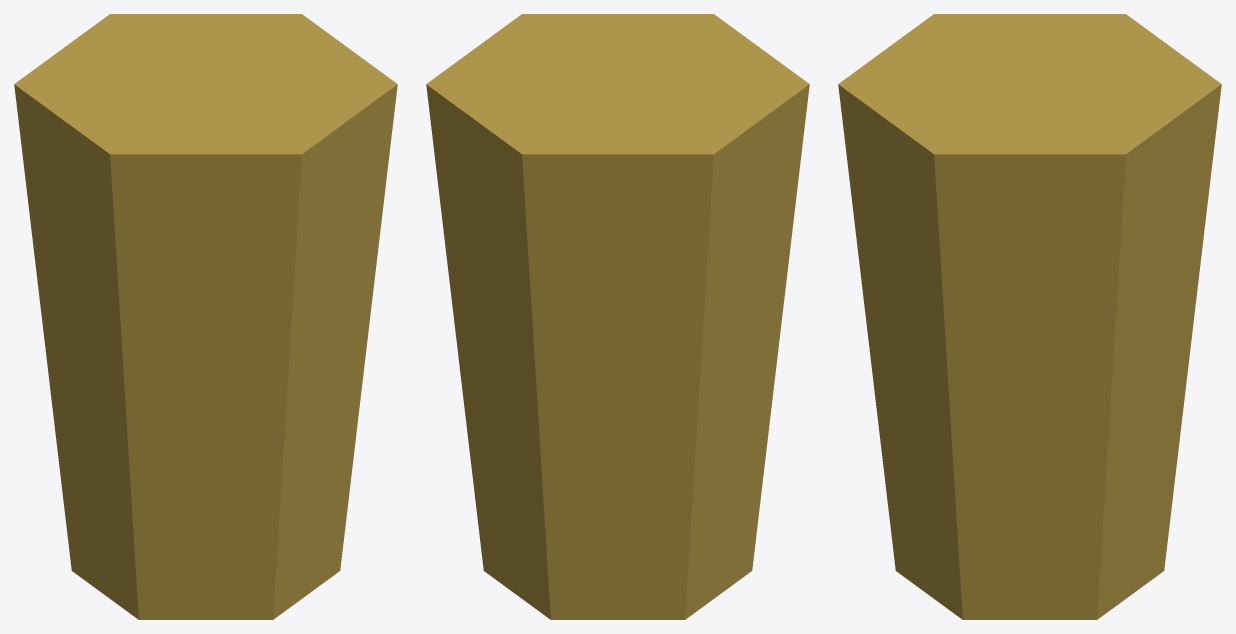
Rendered from good_3.glb.
The picture shows the model from 3 angles, left to right: view 1: azimuth 30°, elevation 25°; view 2: azimuth 150°, elevation 25°; view 3: azimuth 270°, elevation 25°; orthographic projection.
Parts seen in each view (by area): view 1: good_3; view 2: good_3; view 3: good_3.
Boxes of the visible parts, x1,y1,x2,y2 form: good_3: (14,14,397,619); good_3: (426,14,809,619); good_3: (838,14,1221,619).
Size of the model in its own units: 0.0866 by 0.14 by 0.1.
